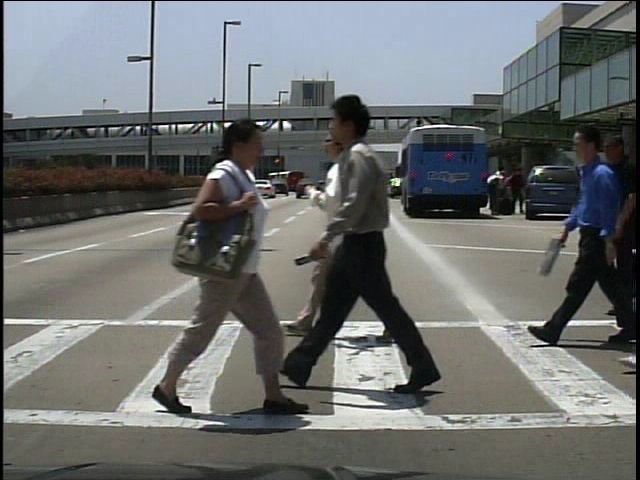person: (305, 89, 448, 403), (155, 115, 287, 418), (293, 118, 417, 356), (541, 114, 629, 348), (486, 162, 504, 214), (508, 166, 526, 216), (589, 168, 596, 218)
